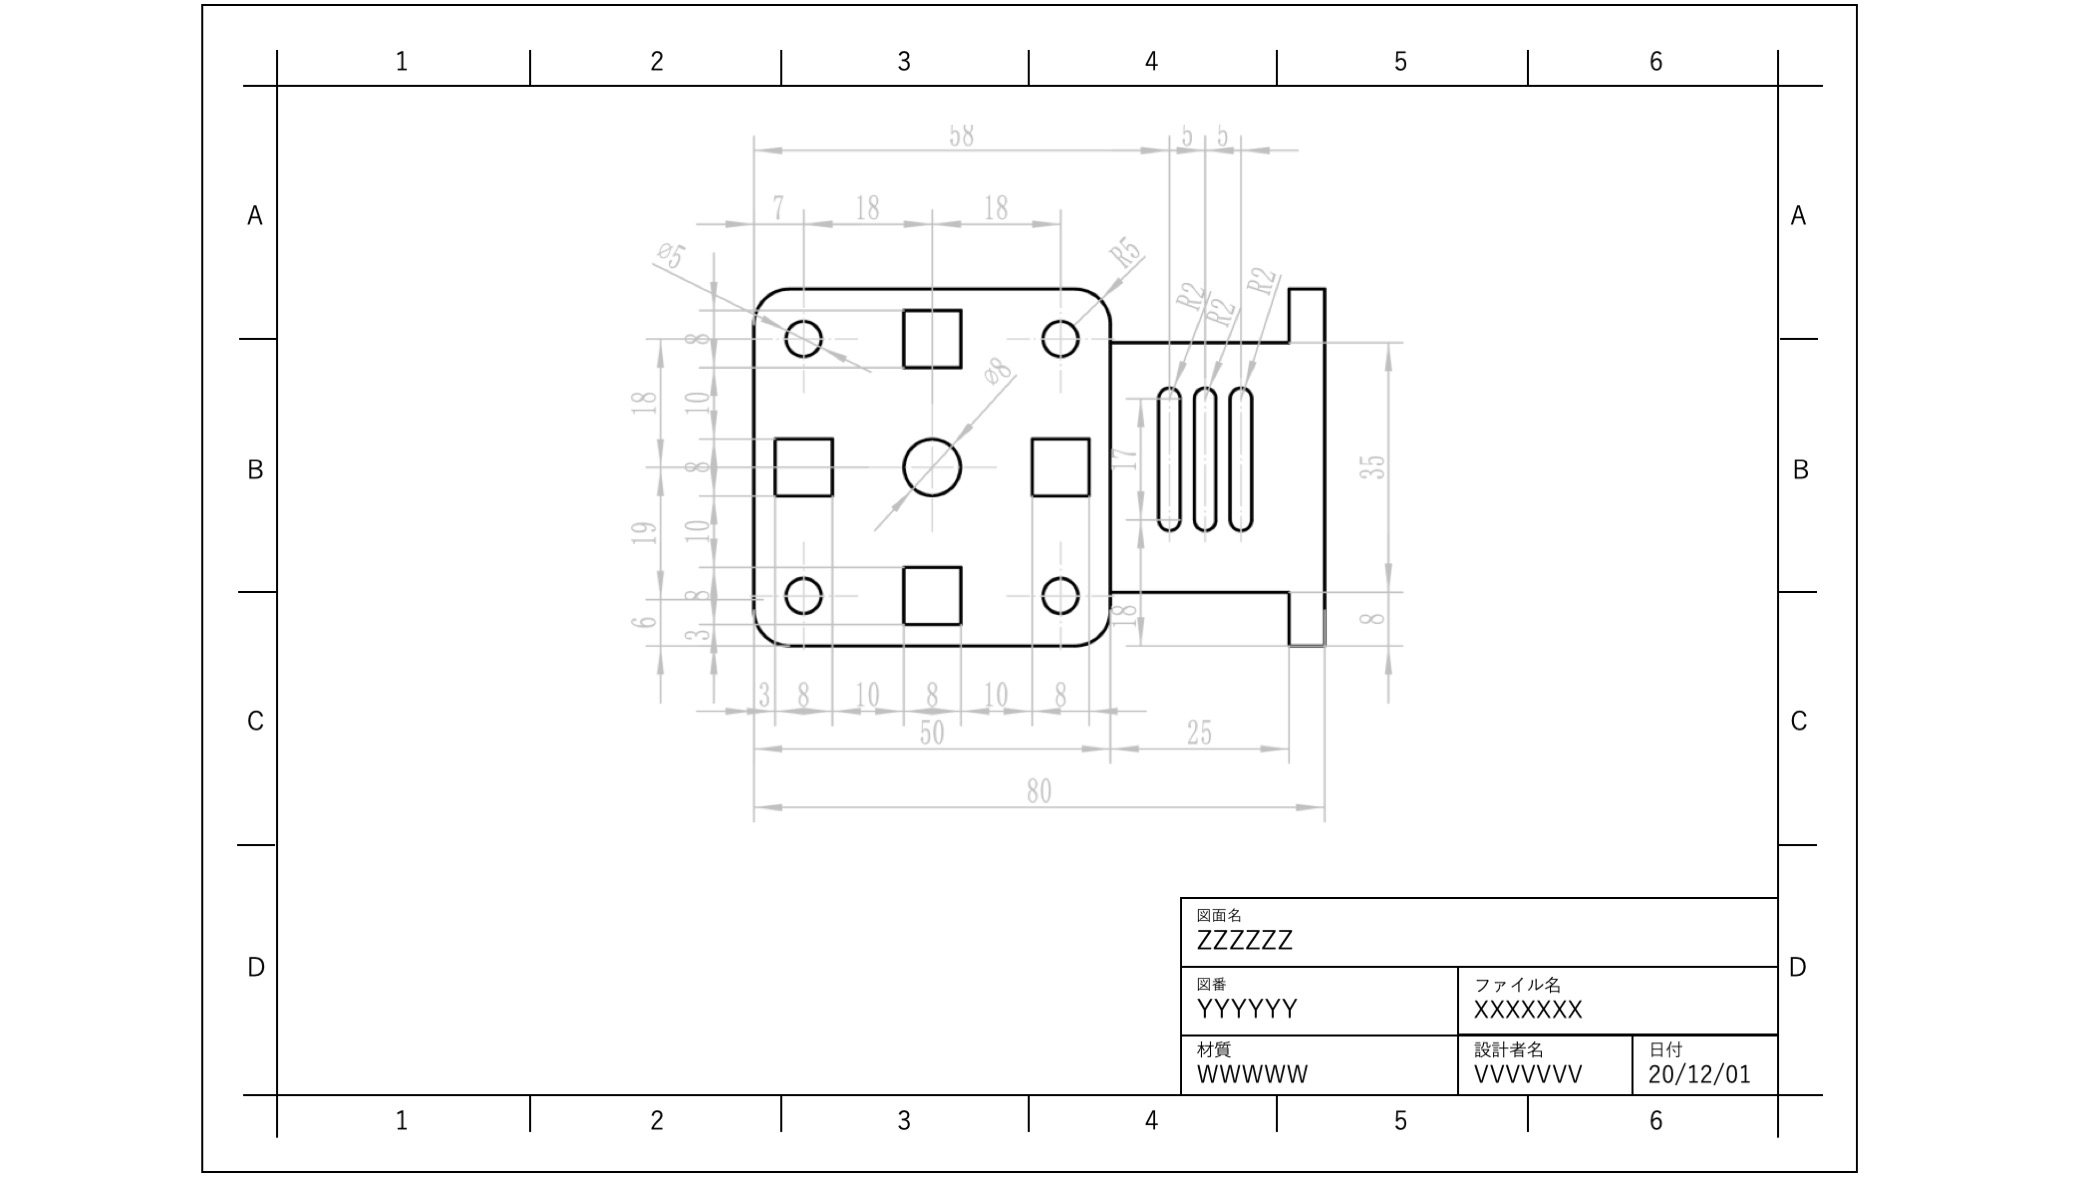circle: (896, 430, 966, 502), (1034, 311, 1085, 363), (777, 311, 829, 361), (1036, 568, 1083, 620), (780, 570, 826, 619)
rectangle: (766, 425, 842, 505), (893, 552, 969, 632), (1021, 425, 1096, 505), (896, 301, 968, 376)
round_rectangle: (1223, 379, 1261, 536), (1187, 369, 1220, 539), (1151, 369, 1183, 538)
